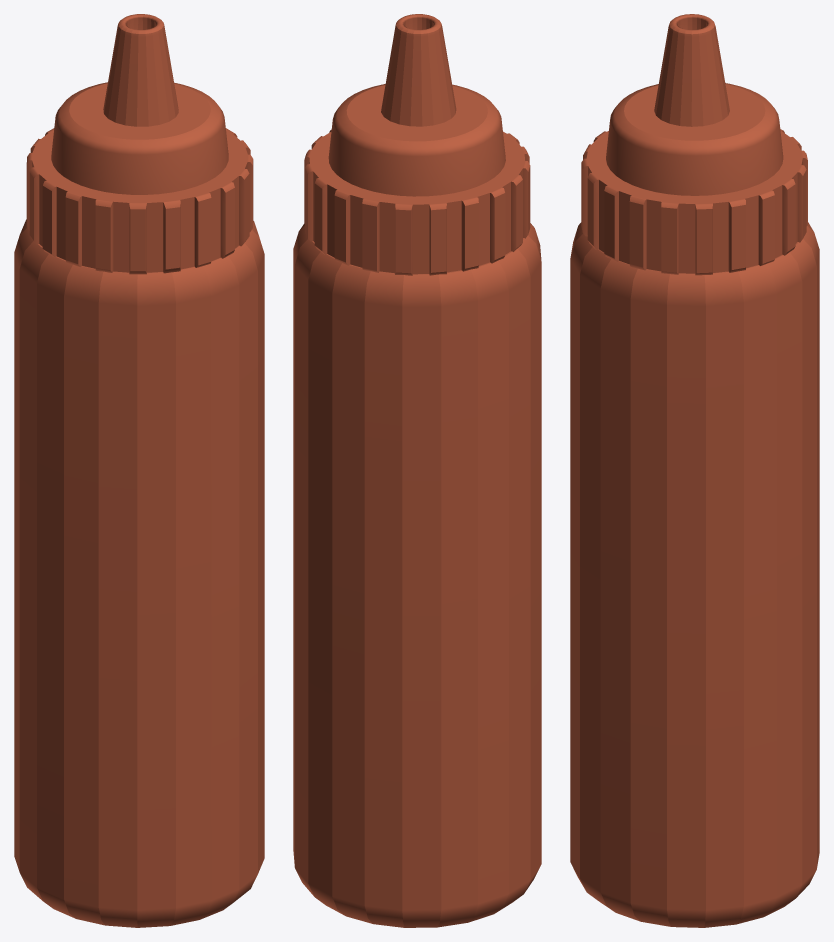
Rendered from ketchupBottle.fbx.
3 views of the same model, side by side, from view 1: azimuth 30°, elevation 25°; view 2: azimuth 150°, elevation 25°; view 3: azimuth 270°, elevation 25° (orthographic).
Visible parts, largest first — view 1: ketchupBottle, ketchupCap, ketchupTip; view 2: ketchupBottle, ketchupCap, ketchupTip; view 3: ketchupBottle, ketchupCap, ketchupTip.
Boxes of the visible parts, x1=… form: ketchupBottle: x1=14, y1=219, x2=264, y2=927; ketchupCap: x1=26, y1=82, x2=253, y2=274; ketchupTip: x1=103, y1=14, x2=178, y2=126; ketchupBottle: x1=293, y1=223, x2=541, y2=927; ketchupCap: x1=304, y1=84, x2=530, y2=275; ketchupTip: x1=381, y1=14, x2=456, y2=126; ketchupBottle: x1=570, y1=222, x2=819, y2=927; ketchupCap: x1=581, y1=83, x2=807, y2=275; ketchupTip: x1=654, y1=14, x2=729, y2=126.
Bounding box in the file's own units: 1.99 × 7.61 × 1.99.
